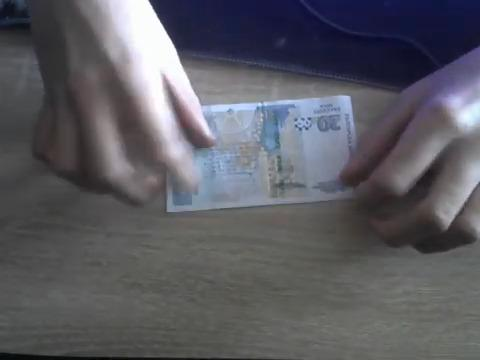20leva: (167, 95, 357, 213)
